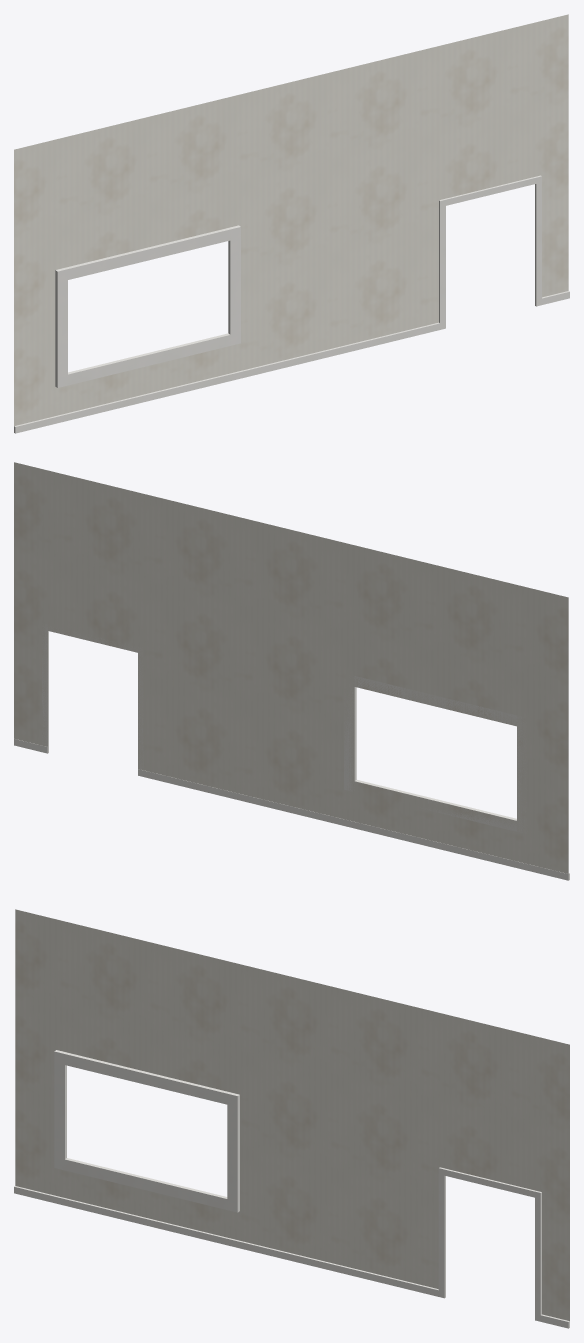
3 renders of one model, top to bottom at view 1: azimuth 30°, elevation 25°; view 2: azimuth 150°, elevation 25°; view 3: azimuth 330°, elevation 25°, orthographic.
Parts seen in each view (by area): view 1: jx_wm_12_bb0d6a3f; view 2: jx_wm_12_bb0d6a3f; view 3: jx_wm_12_bb0d6a3f.
Part boxes in pixels (x1,y1,x2,y2): jx_wm_12_bb0d6a3f: (14, 14, 569, 433); jx_wm_12_bb0d6a3f: (14, 462, 569, 880); jx_wm_12_bb0d6a3f: (14, 909, 569, 1328).
Bounding box in the file's own units: 12.3 × 6 × 0.086.
2 materials, 2 textured.
